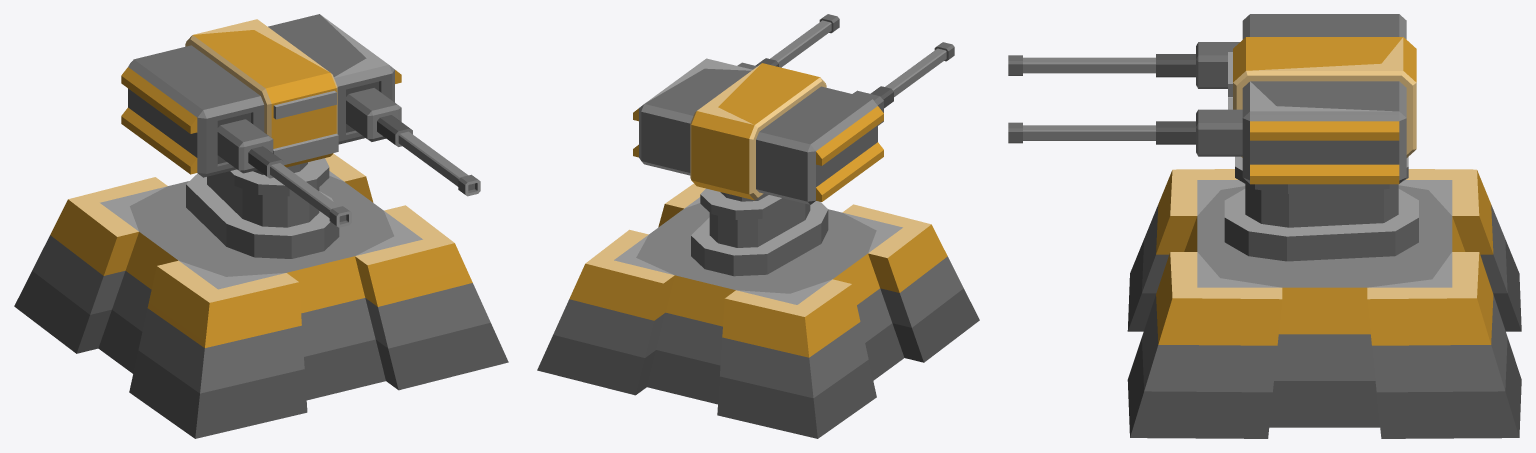
The model's file is tower_rapid_yellow_1.fbx.
3 views of the same model, side by side, from view 1: azimuth 30°, elevation 25°; view 2: azimuth 150°, elevation 25°; view 3: azimuth 270°, elevation 25° (orthographic). The views are drawn at different scales.
Visible parts, largest first — view 1: tower_rapid_yellow_1, top_rapid_yellow_1; view 2: tower_rapid_yellow_1, top_rapid_yellow_1; view 3: tower_rapid_yellow_1, top_rapid_yellow_1.
Boxes of the visible parts, x1,y1,x2,y2 form: tower_rapid_yellow_1: (14,153,508,438); top_rapid_yellow_1: (121,14,480,258); tower_rapid_yellow_1: (537,183,979,438); top_rapid_yellow_1: (633,14,954,276); tower_rapid_yellow_1: (1127,169,1521,438); top_rapid_yellow_1: (1008,14,1418,261).
Bounding box in the file's own units: 161 × 136 × 209.
